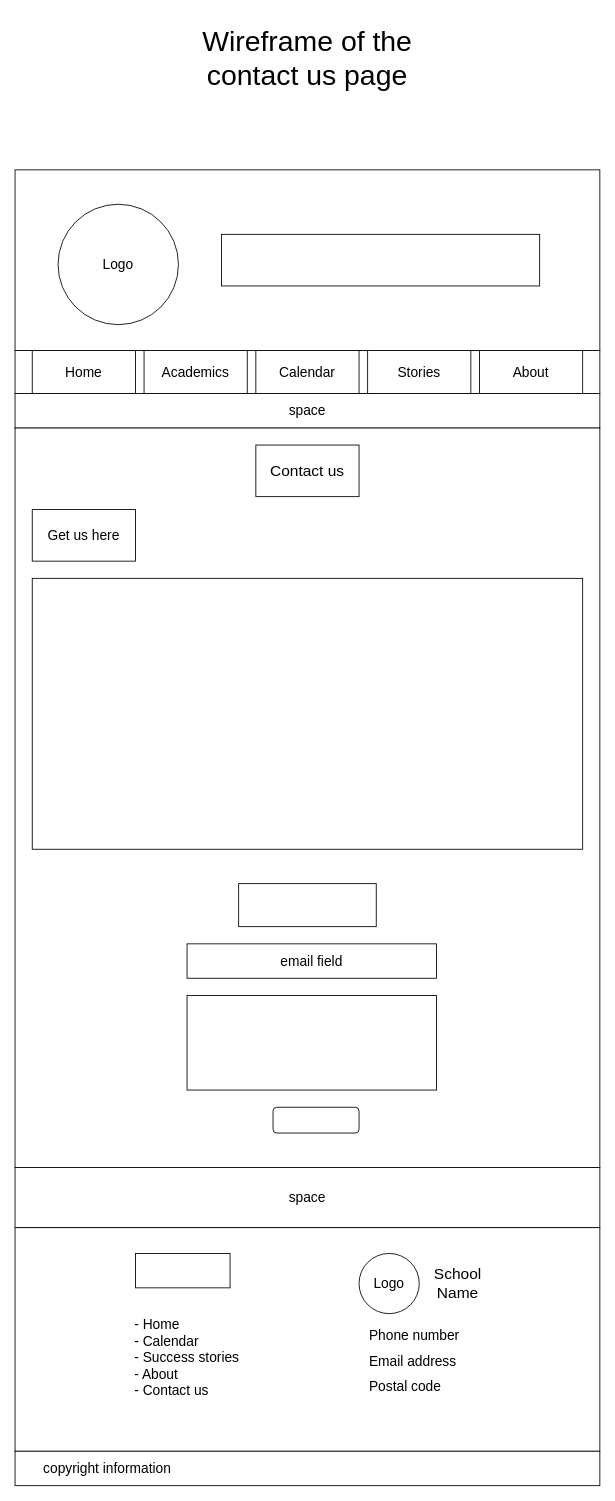
The diagram is 615 pixels wide and 1501 high, and some of its shapes have lost their labels. The shapes that lost their labels are listed below. From the top down, each one's box as (x1, y1, x2, y2) in pixels, then its label:
(221, 233, 540, 286): Moto
(31, 577, 583, 849): Google maps
(238, 883, 376, 927): Send us a word
(186, 995, 436, 1090): message field
(272, 1106, 359, 1133): submit
(135, 1253, 230, 1288): Site-map
